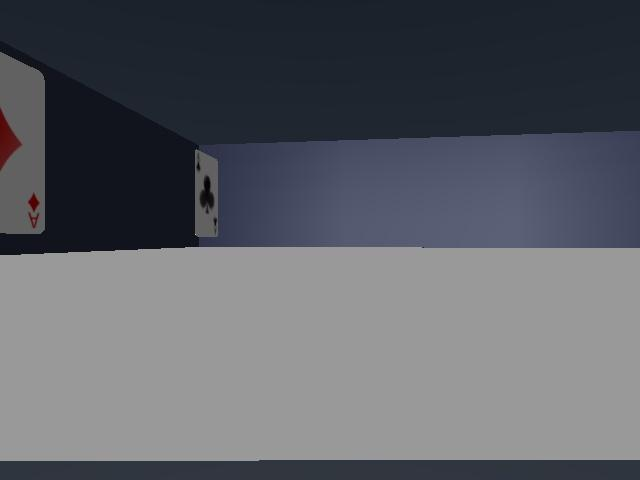club: (195, 150, 217, 237)
diamond: (0, 53, 45, 233)
